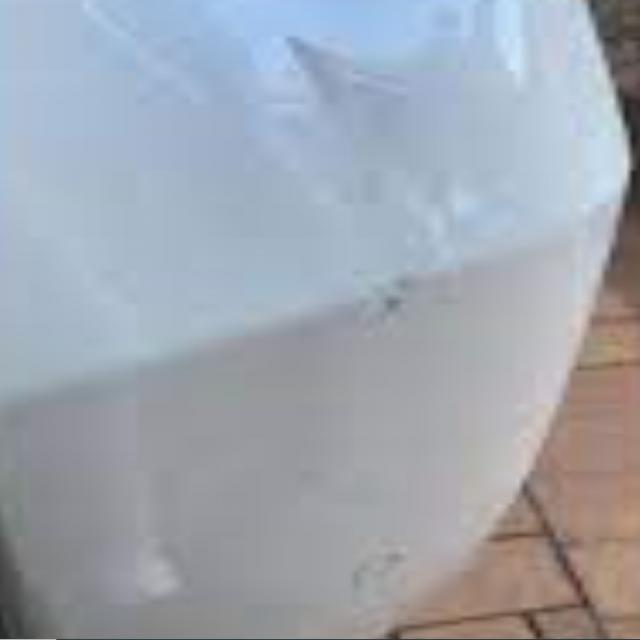dents: (103, 542, 269, 618), (268, 36, 388, 133)
